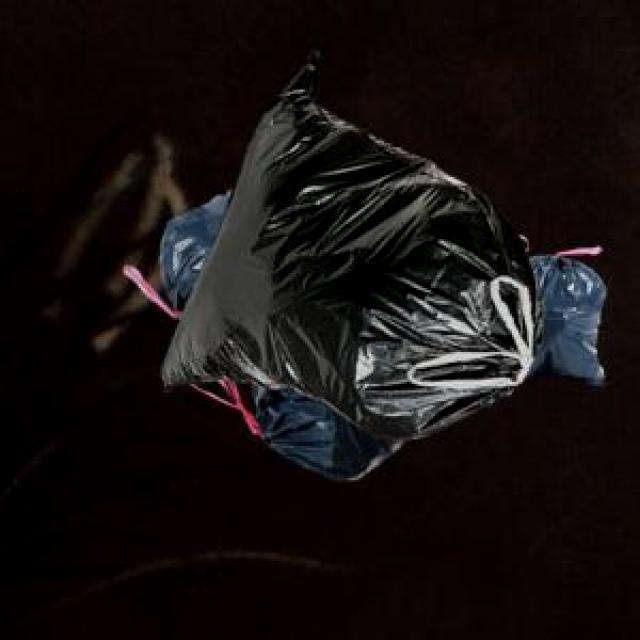Trashbag: (115, 91, 557, 412), (534, 248, 616, 372), (141, 196, 205, 306)
